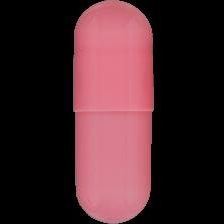0555-1021: (0, 0, 224, 224)
